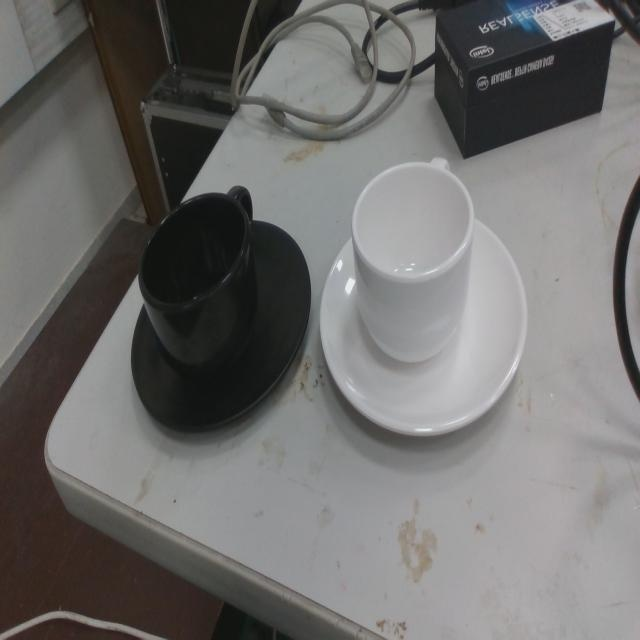black: (130, 182, 312, 442)
white: (316, 151, 530, 446)
